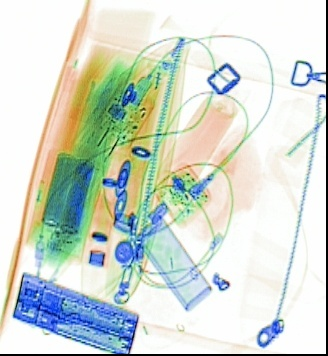powerbank: (26, 146, 100, 262)
